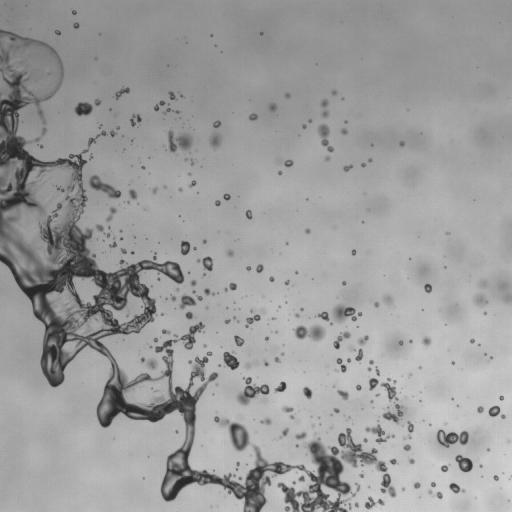droplet: (237, 377, 269, 405), (369, 378, 397, 401), (365, 424, 394, 443), (330, 304, 356, 324), (168, 130, 191, 152), (382, 403, 402, 423), (455, 454, 472, 472), (223, 351, 239, 369), (179, 294, 196, 308), (74, 102, 92, 115), (365, 497, 384, 509), (488, 405, 505, 418), (197, 256, 212, 270), (141, 358, 157, 369), (210, 133, 220, 148), (449, 483, 464, 493), (475, 294, 487, 305), (274, 381, 286, 392), (180, 241, 189, 255), (130, 114, 141, 125), (316, 312, 329, 321), (234, 335, 244, 346), (303, 387, 312, 399), (355, 349, 363, 362), (358, 335, 368, 345), (337, 390, 348, 399), (295, 431, 306, 440), (224, 283, 236, 291), (422, 336, 431, 346), (383, 295, 392, 304), (129, 189, 137, 199), (204, 288, 214, 295), (284, 160, 293, 167), (479, 279, 486, 288), (261, 418, 271, 424), (321, 99, 328, 107), (269, 103, 276, 111), (249, 113, 257, 120), (256, 264, 263, 272), (424, 284, 431, 292), (185, 312, 193, 319), (245, 210, 251, 219), (213, 120, 220, 127), (189, 180, 196, 187), (96, 224, 103, 231), (441, 464, 448, 471), (169, 91, 175, 99), (344, 165, 352, 171), (322, 110, 328, 117), (223, 194, 230, 200), (477, 406, 483, 413), (403, 444, 410, 450), (389, 459, 397, 464), (94, 99, 100, 105), (341, 128, 347, 134), (227, 250, 233, 256), (190, 280, 196, 286), (298, 475, 304, 481), (414, 482, 420, 488), (41, 127, 46, 134), (162, 329, 169, 334), (73, 22, 78, 28), (152, 187, 157, 193), (110, 242, 116, 247), (269, 276, 274, 282), (274, 357, 280, 362), (375, 368, 379, 375), (110, 131, 115, 136), (215, 200, 220, 205), (121, 248, 126, 253), (506, 296, 511, 301), (374, 302, 379, 307), (245, 363, 250, 368), (356, 385, 361, 390), (493, 475, 498, 480), (55, 30, 60, 34), (285, 93, 290, 97), (34, 137, 39, 141), (400, 141, 404, 146), (305, 229, 310, 233), (197, 296, 202, 300), (349, 347, 354, 351), (499, 395, 503, 400), (334, 408, 339, 412), (409, 459, 414, 463), (72, 10, 76, 14), (332, 90, 336, 94), (165, 108, 169, 112), (302, 124, 306, 128), (325, 156, 329, 160), (246, 266, 250, 270), (285, 280, 289, 284), (342, 281, 346, 285), (171, 296, 175, 300), (357, 312, 361, 316), (225, 319, 229, 323), (154, 338, 158, 342), (470, 339, 474, 343), (264, 361, 268, 365), (369, 360, 373, 364), (363, 438, 367, 442), (431, 482, 435, 486), (352, 250, 355, 254), (250, 309, 254, 312), (295, 313, 298, 317), (359, 474, 363, 477), (191, 160, 193, 165), (48, 72, 51, 75), (368, 158, 371, 161), (362, 163, 365, 166), (141, 166, 144, 169), (278, 171, 281, 174), (265, 337, 268, 340), (399, 341, 402, 344), (347, 359, 350, 362), (368, 367, 371, 370), (236, 462, 239, 465), (355, 503, 358, 506), (262, 308, 264, 312), (176, 110, 178, 113), (90, 155, 92, 158), (179, 188, 181, 191), (106, 234, 109, 236), (203, 240, 206, 242), (193, 247, 196, 249), (131, 251, 133, 254), (300, 308, 303, 310), (409, 340, 412, 342), (490, 356, 492, 359), (487, 448, 489, 451), (402, 487, 404, 490), (39, 145, 41, 147), (295, 271, 297, 273), (157, 278, 159, 280), (452, 362, 454, 364), (152, 389, 154, 391)
ligament: (0, 29, 394, 511), (89, 175, 121, 198), (436, 429, 468, 447), (293, 325, 325, 341), (318, 124, 333, 152), (333, 331, 350, 349), (88, 131, 106, 145), (246, 313, 260, 326), (282, 406, 294, 419), (115, 87, 129, 98), (106, 207, 116, 221), (336, 358, 346, 372), (405, 421, 413, 438), (428, 490, 442, 498), (154, 101, 164, 110), (280, 428, 288, 437), (355, 483, 360, 491)
